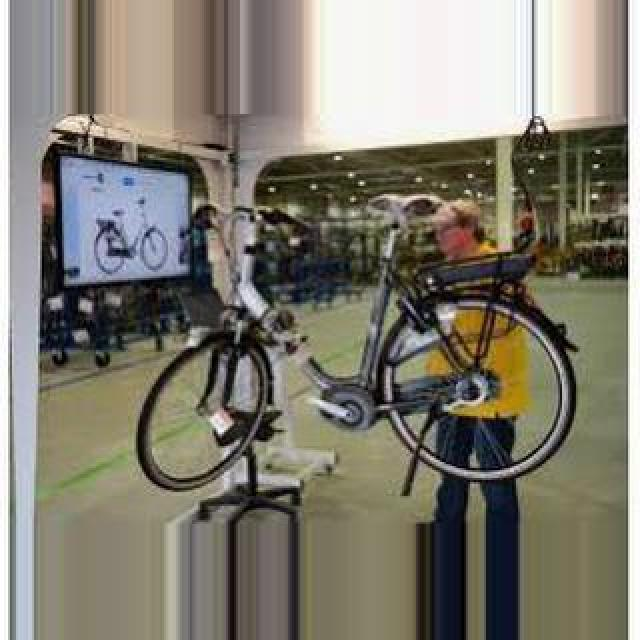MC-Bike: (422, 198, 542, 640)
Person: (134, 192, 580, 496)
